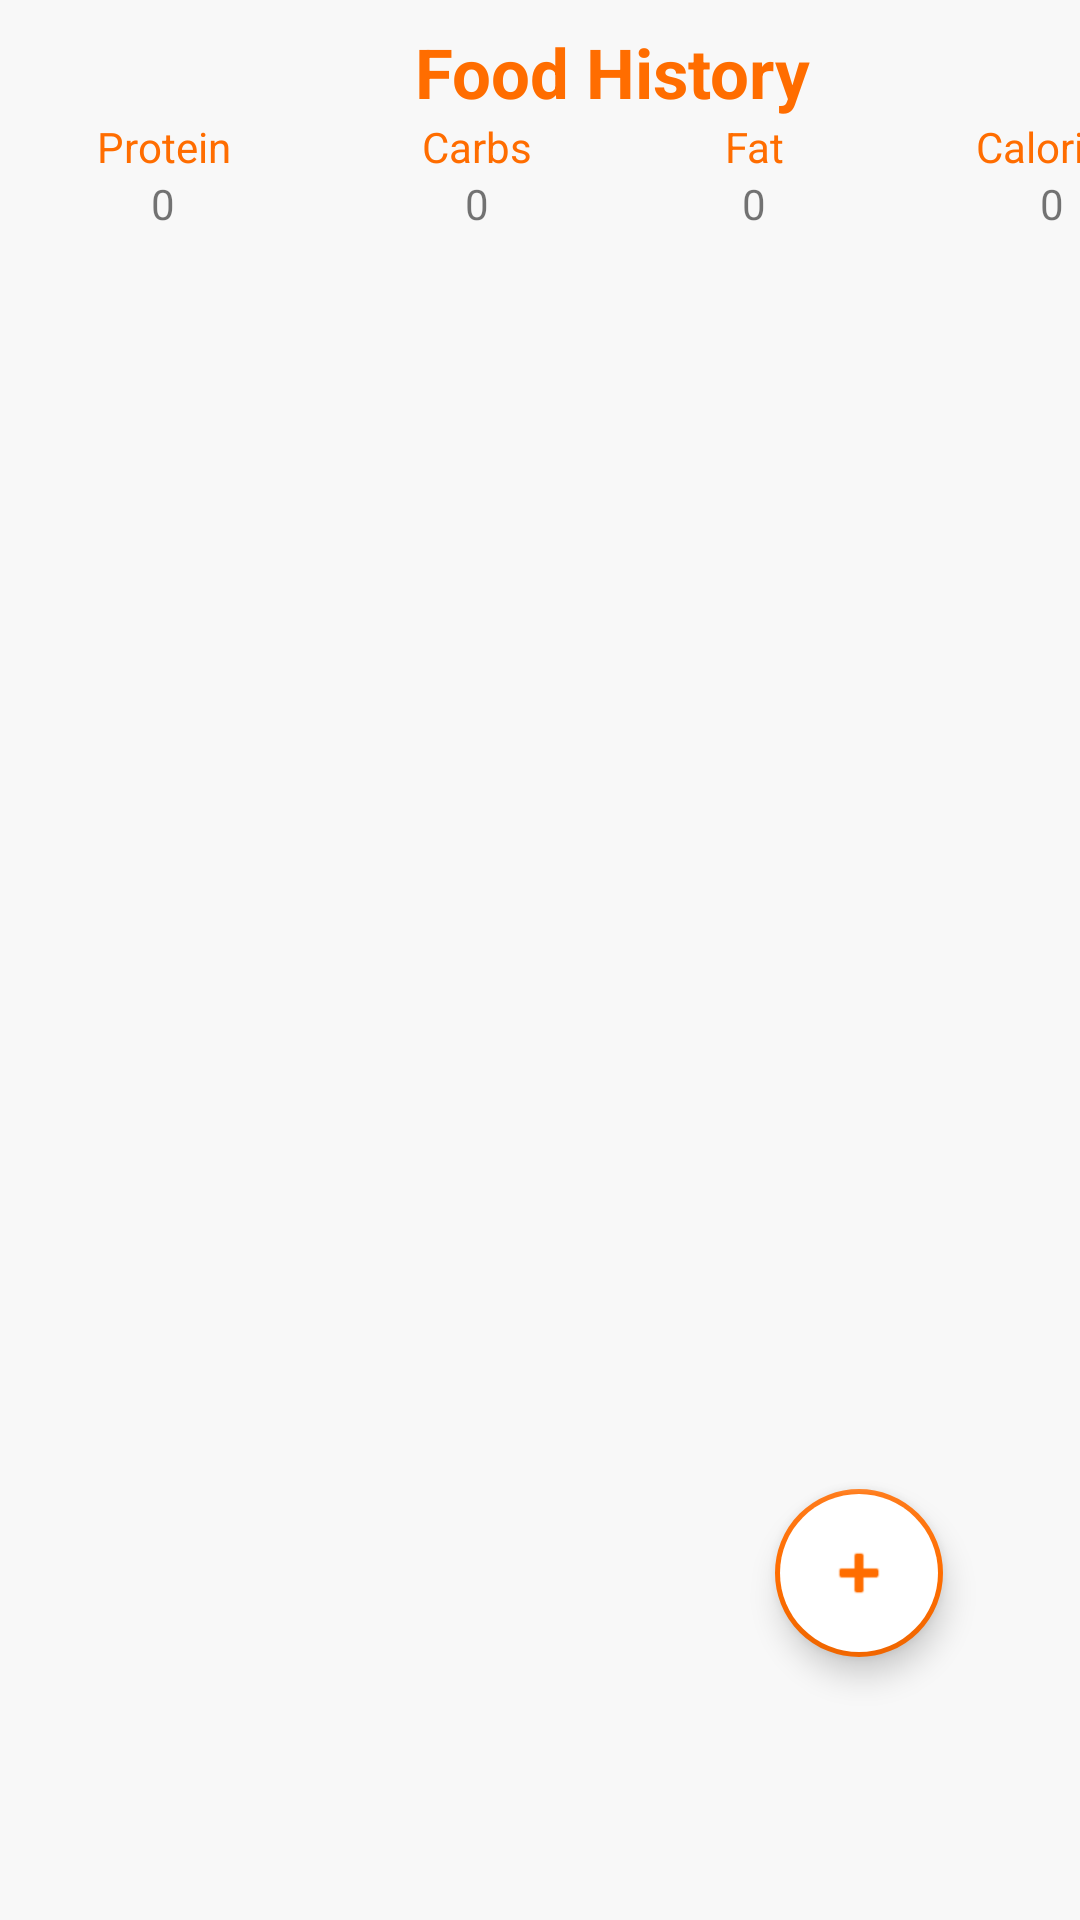

Icon bounding boxes for this 1080 x 1920 phone screenshot, format (x1, y1, x2, y2):
add: (775, 1489, 943, 1657)
